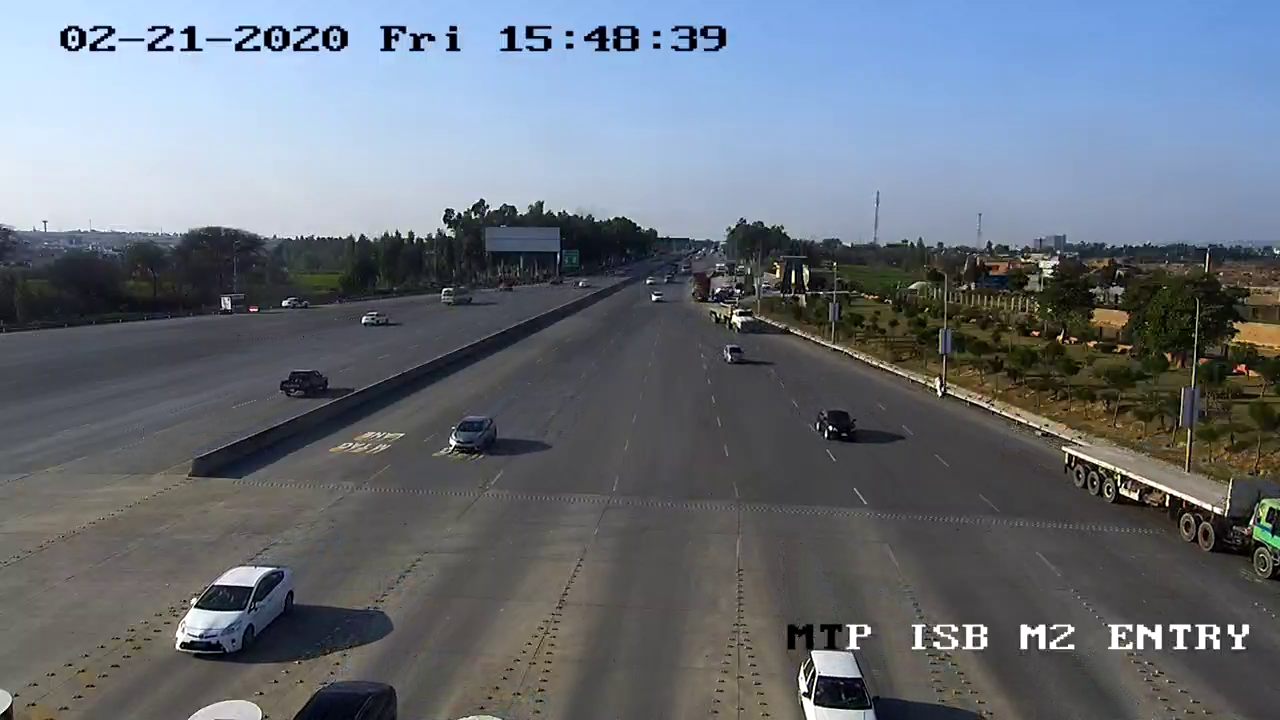f1: (165, 548, 303, 669), (437, 406, 503, 463), (808, 401, 862, 449)
